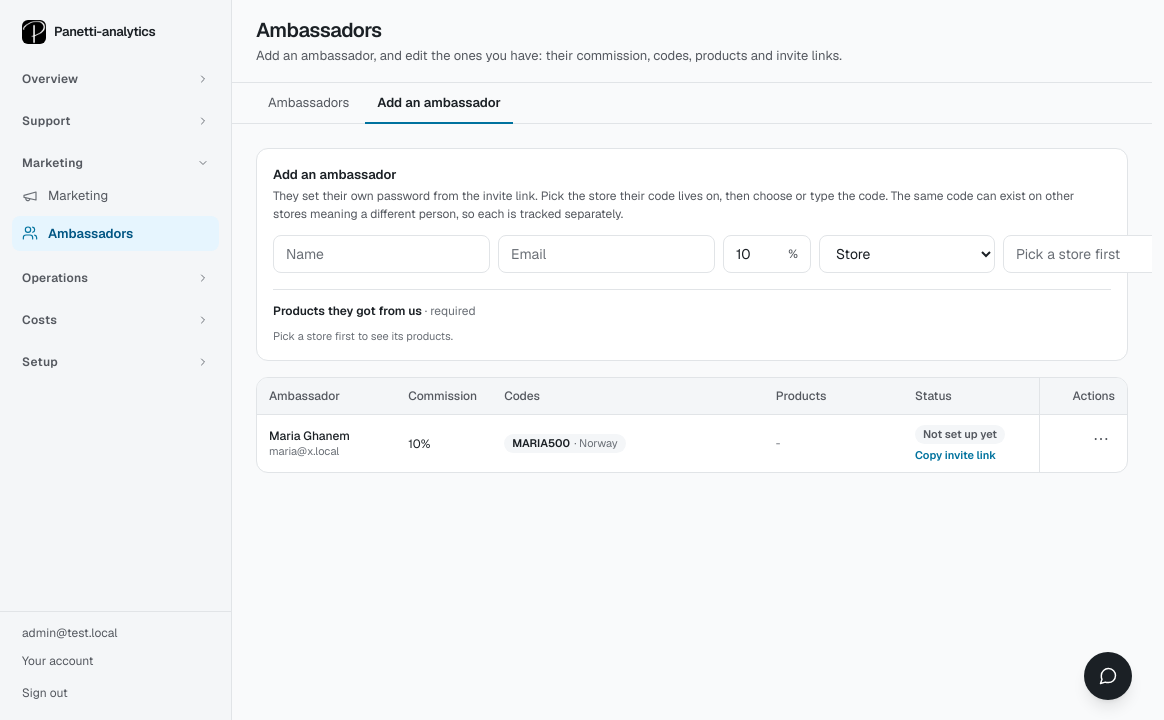
Test: the row menu › keeps the row verbs out of sight until asked for
Expected: the text "MARIA500" is shown, [512,436,570,450]
Expected: the menu item "Delete" is not shown
Click the button named "Actions for Maria Ghanem": (1101, 439) [1087,425,1115,453]
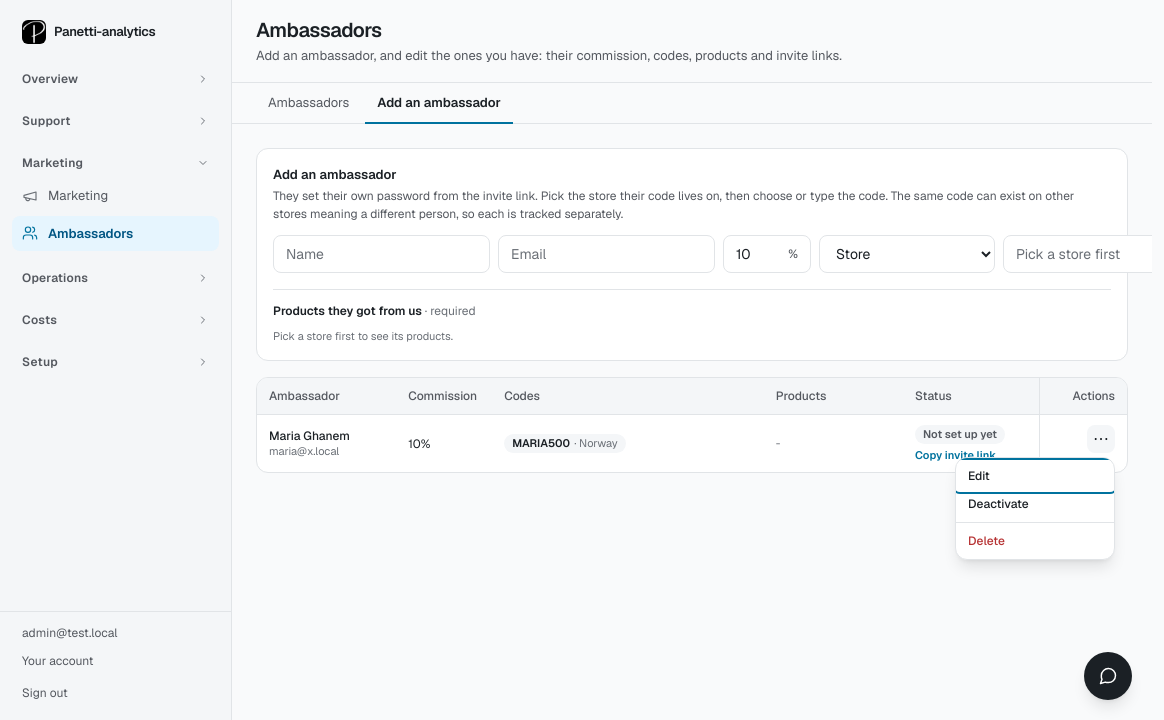
Expected: the menu item "Edit" is shown, [956,462,1114,490]
Expected: the menu item "Deactivate" is shown, [956,490,1114,518]
Expected: the menu item "Delete" is shown, [956,527,1114,555]
